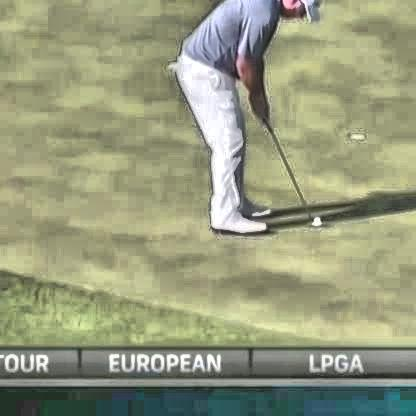golfball: (308, 216, 319, 223)
